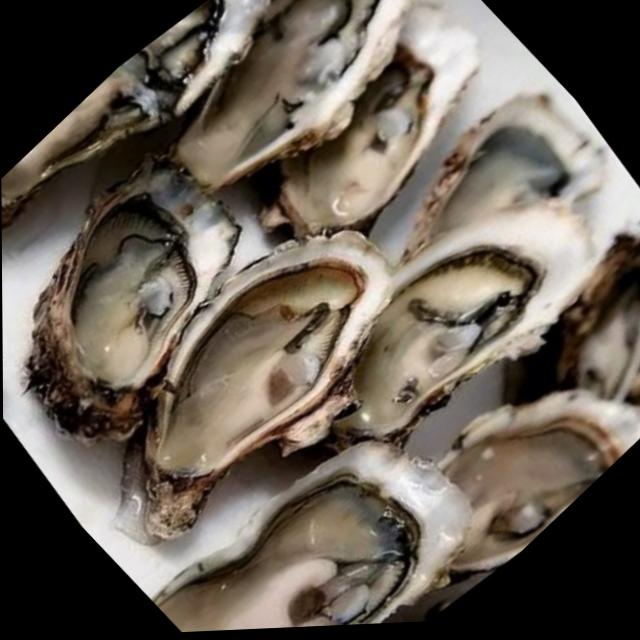Oyster-Open: (57, 180, 432, 555), (267, 140, 632, 506), (1, 128, 301, 475), (0, 0, 316, 294), (148, 384, 500, 634), (126, 0, 482, 230), (234, 0, 528, 277), (376, 326, 640, 608), (361, 65, 622, 328)
